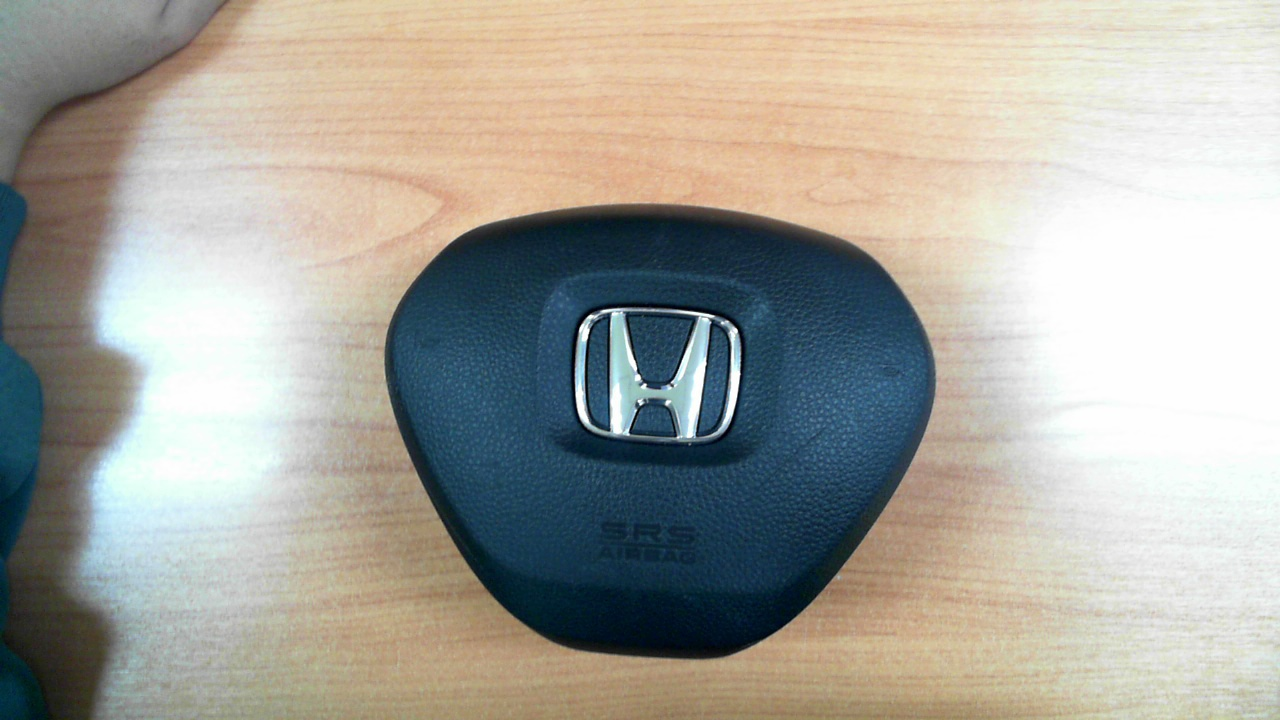Airbag: (384, 203, 937, 660)
Honda: (573, 306, 742, 447)
